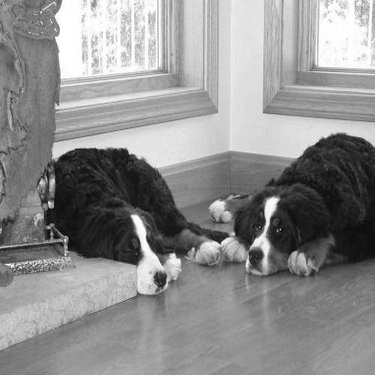dog: (30, 146, 236, 300), (201, 127, 373, 279)
